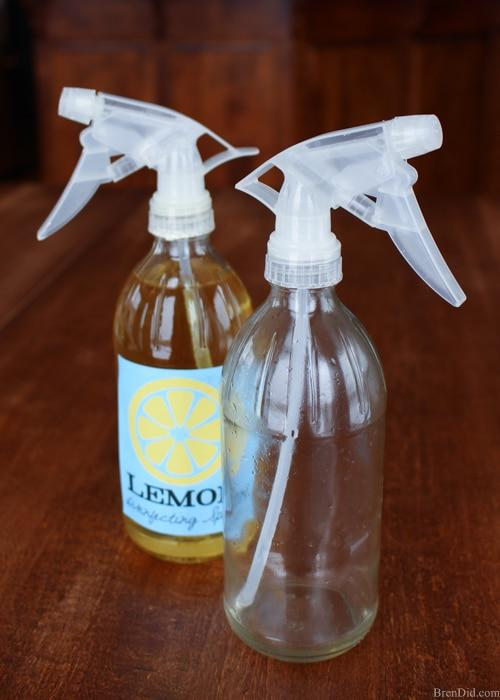plastic: (35, 81, 467, 664)
